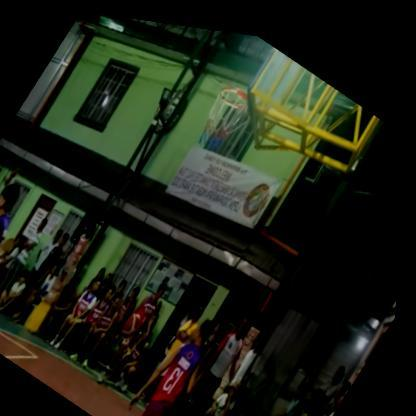basketball: (118, 299, 154, 345)
rim: (180, 51, 274, 174)
